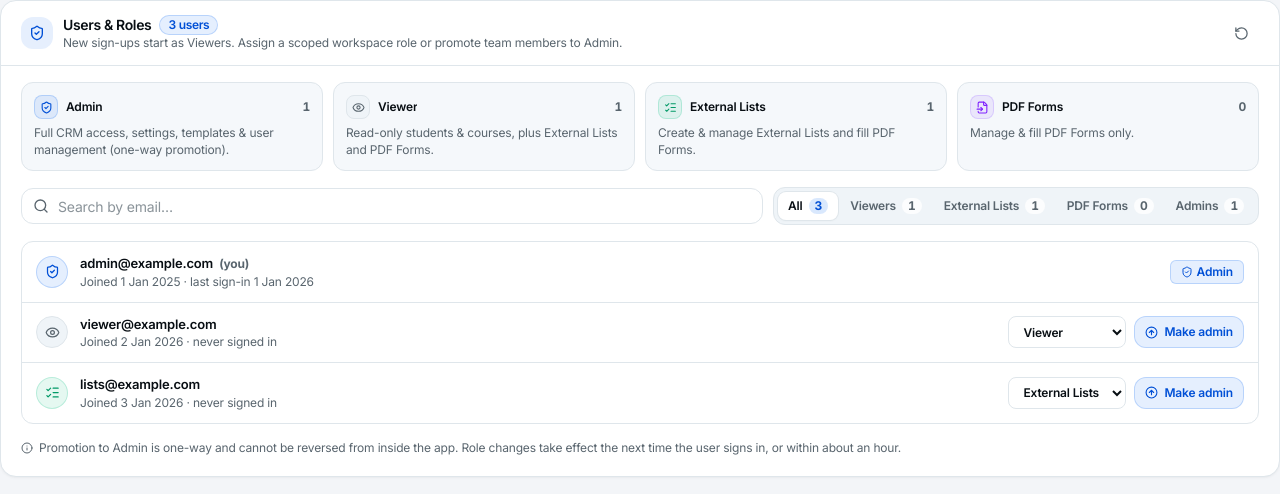
Test case: UserRolesSection › filters External Lists users
The width and height of the screenshot is (1280, 494).
Click the tab "External Lists 1": coordinates (994, 206) 934,192 -> 1055,220
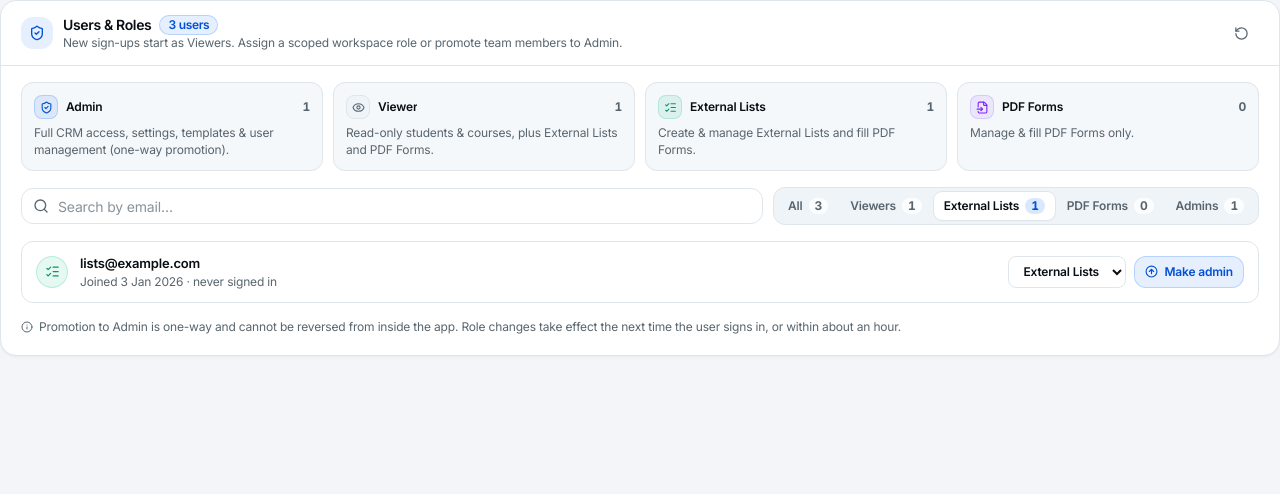
Expected: the text "lists@example.com" is shown, 80,255 -> 200,271
Now the number of list items with test id "app-user-row" is 1, box 36,255 -> 1244,288
